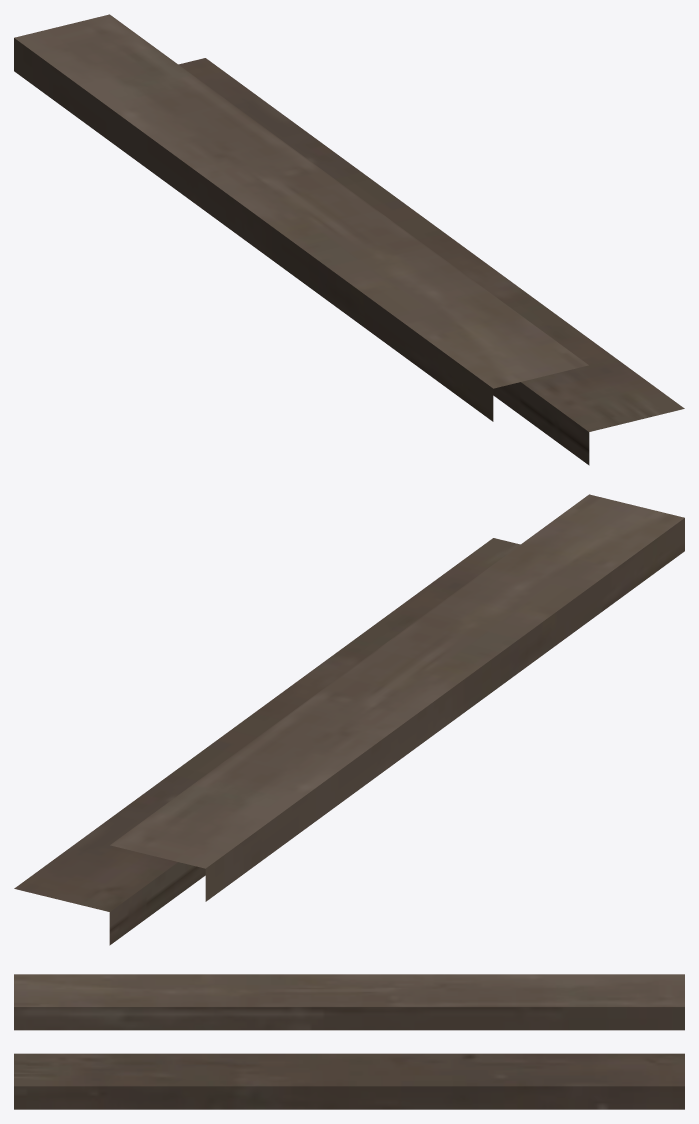
3 renders of one model, top to bottom at view 1: azimuth 30°, elevation 25°; view 2: azimuth 150°, elevation 25°; view 3: azimuth 270°, elevation 25°, orthographic. The views are drawn at different scales.
Visible parts, largest first — view 1: body0_model0_lod0_mesh0; view 2: body0_model0_lod0_mesh0; view 3: body0_model0_lod0_mesh0.
Boxes of the visible parts, x1,y1,x2,y2 form: body0_model0_lod0_mesh0: (14,14,684,465); body0_model0_lod0_mesh0: (14,494,684,945); body0_model0_lod0_mesh0: (14,974,684,1109).
Bounding box in the file's own units: 23.99 × 12 × 104.
Materials: 1 (1 with a texture image).
